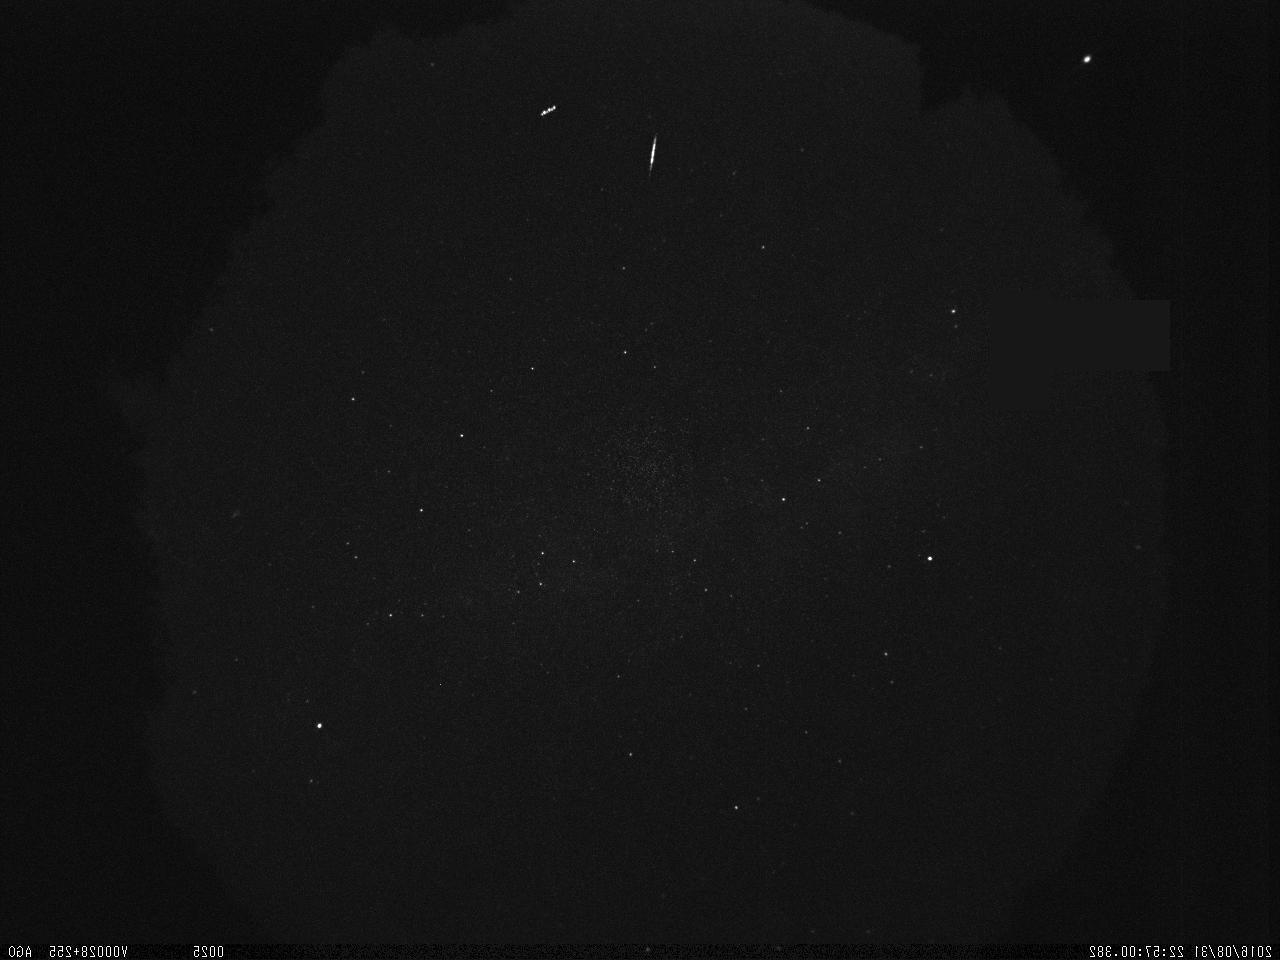meteor: (640, 125, 665, 182)
satelite: (537, 97, 564, 128)
